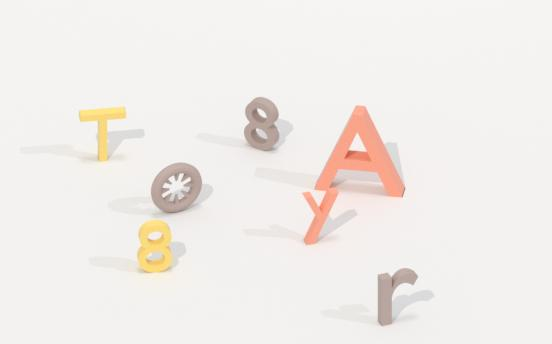8: (240, 96, 284, 154), (133, 219, 177, 276)
A-hoa: (311, 104, 417, 201)
R: (376, 267, 425, 328)
Y: (299, 185, 345, 248)
t-hoa: (75, 105, 130, 163)
tron: (149, 161, 205, 214)
